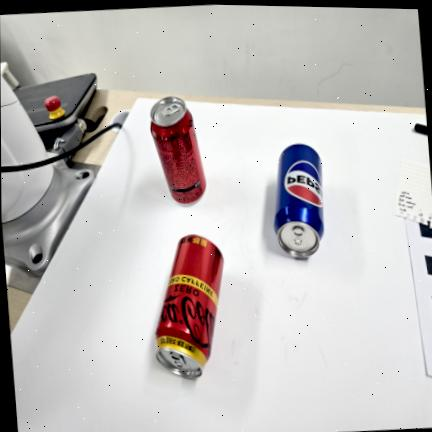can_coke_decaf: (153, 235, 224, 380)
can_coke_zero: (149, 95, 207, 203)
can_pepsi: (272, 144, 323, 259)
